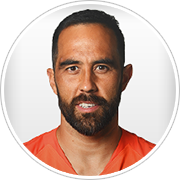face: (43, 38, 135, 122)
